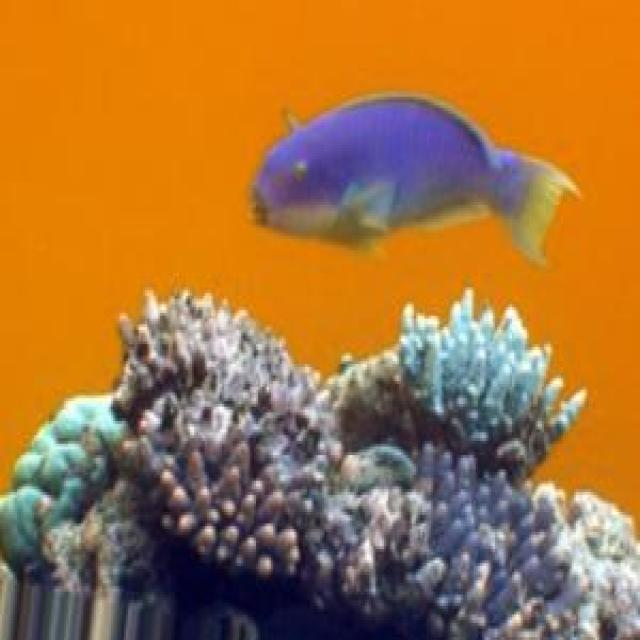Bleached: (396, 291, 588, 479), (133, 402, 327, 584), (112, 291, 319, 431), (413, 450, 568, 632), (1, 399, 127, 601)
